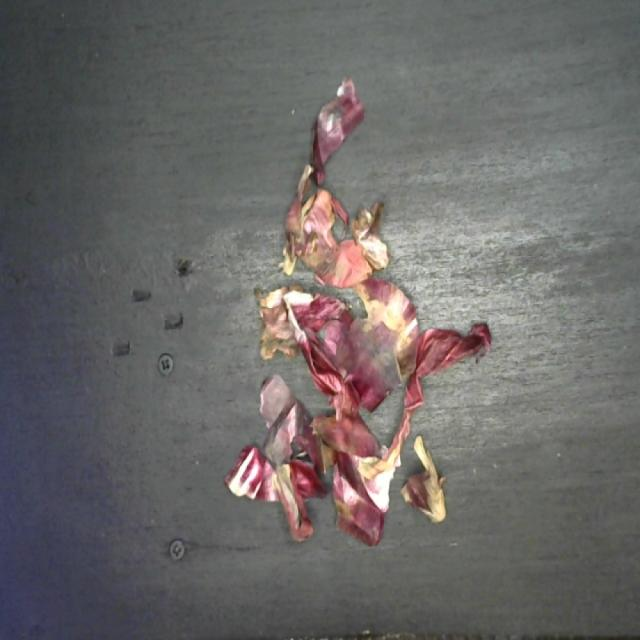biodegradable: (220, 76, 491, 541)
